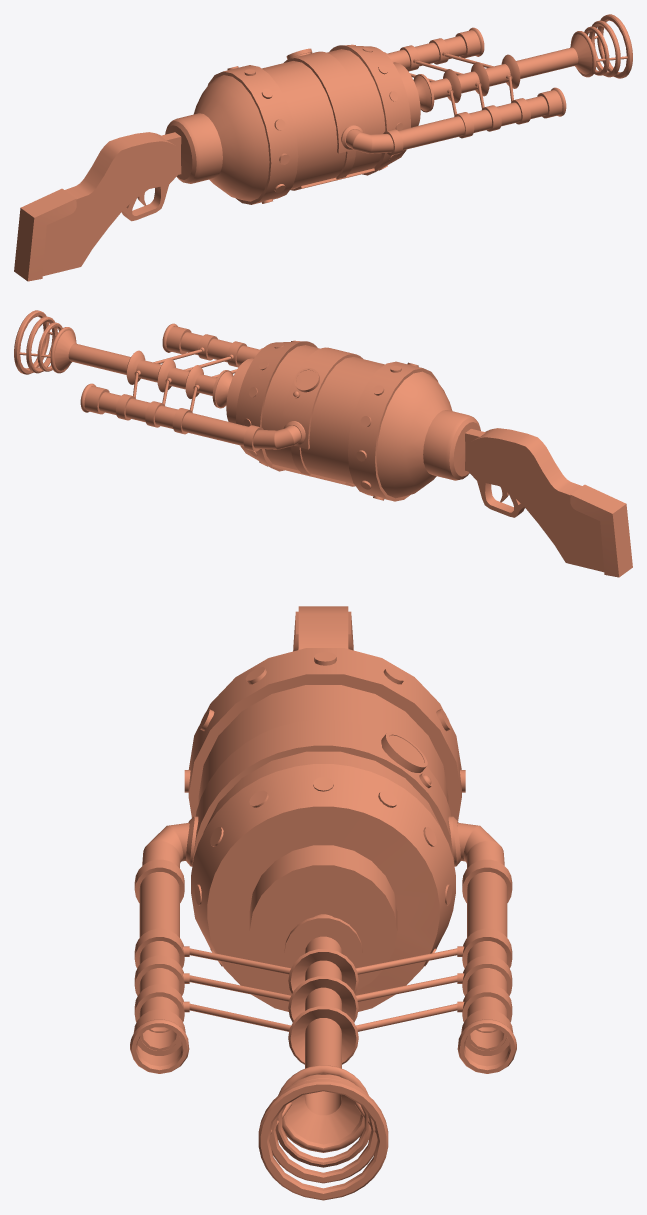
Rendered from Gauss_LP.fbx.
3 views of the same model, one above another, from view 1: azimuth 30°, elevation 25°; view 2: azimuth 150°, elevation 25°; view 3: azimuth 270°, elevation 25° (orthographic). The views are drawn at different scales.
Parts seen in each view (by area): view 1: priklad_low, kolb_low, shpera_z_low, osn_metal_low, truba_low, priklad_z_low, detal_derz_low, metal_detal1_low, osn_pered_low, dulo_low, handle_low, truba2_low (+8 smaller); view 2: priklad_low, kolb_low, shpera_z_low, osn_metal_low, truba_low, priklad_z_low, detal_derz_low, osn_pered_low, dulo_low, metal_detal1_low, handle_low, truba2_low (+8 smaller); view 3: osn_pered_low, metal_pered_low, osn_metal_low, kolb_low, truba_low, metal_detal1_low, ring3_low, dulo_low, truba2_low, truba_decor_low, ring_trub_low, gorn_low (+16 smaller).
Part boxes in pixels (x1,y1,x2,y2): priklad_low: [42, 132, 176, 276]; kolb_low: [262, 49, 385, 189]; shpera_z_low: [193, 75, 269, 201]; osn_metal_low: [207, 65, 298, 204]; truba_low: [387, 36, 547, 150]; priklad_z_low: [14, 188, 76, 281]; detal_derz_low: [165, 113, 222, 183]; metal_detal1_low: [284, 51, 365, 153]; osn_pered_low: [329, 45, 410, 175]; dulo_low: [430, 47, 578, 99]; handle_low: [121, 132, 181, 221]; truba2_low: [346, 129, 393, 153]; priklad_low: [470, 428, 604, 572]; kolb_low: [261, 345, 384, 485]; shpera_z_low: [376, 371, 452, 498]; osn_metal_low: [348, 361, 438, 501]; truba_low: [99, 332, 259, 446]; priklad_z_low: [570, 484, 632, 577]; detal_derz_low: [423, 410, 480, 480]; osn_pered_low: [236, 341, 317, 471]; dulo_low: [68, 343, 216, 395]; metal_detal1_low: [281, 347, 362, 449]; handle_low: [465, 429, 524, 517]; truba2_low: [253, 425, 300, 449]; osn_pered_low: [191, 764, 455, 1011]; metal_pered_low: [249, 845, 397, 990]; osn_metal_low: [188, 648, 461, 820]; kolb_low: [198, 685, 448, 832]; truba_low: [139, 872, 507, 1050]; metal_detal1_low: [192, 719, 454, 863]; ring3_low: [258, 1079, 388, 1200]; dulo_low: [305, 936, 341, 1115]; truba2_low: [142, 823, 504, 868]; truba_decor_low: [133, 1009, 513, 1066]; ring_trub_low: [130, 1019, 516, 1073]; gorn_low: [286, 1073, 360, 1144].
Size of the model in its own units: 445 by 106 by 125.
